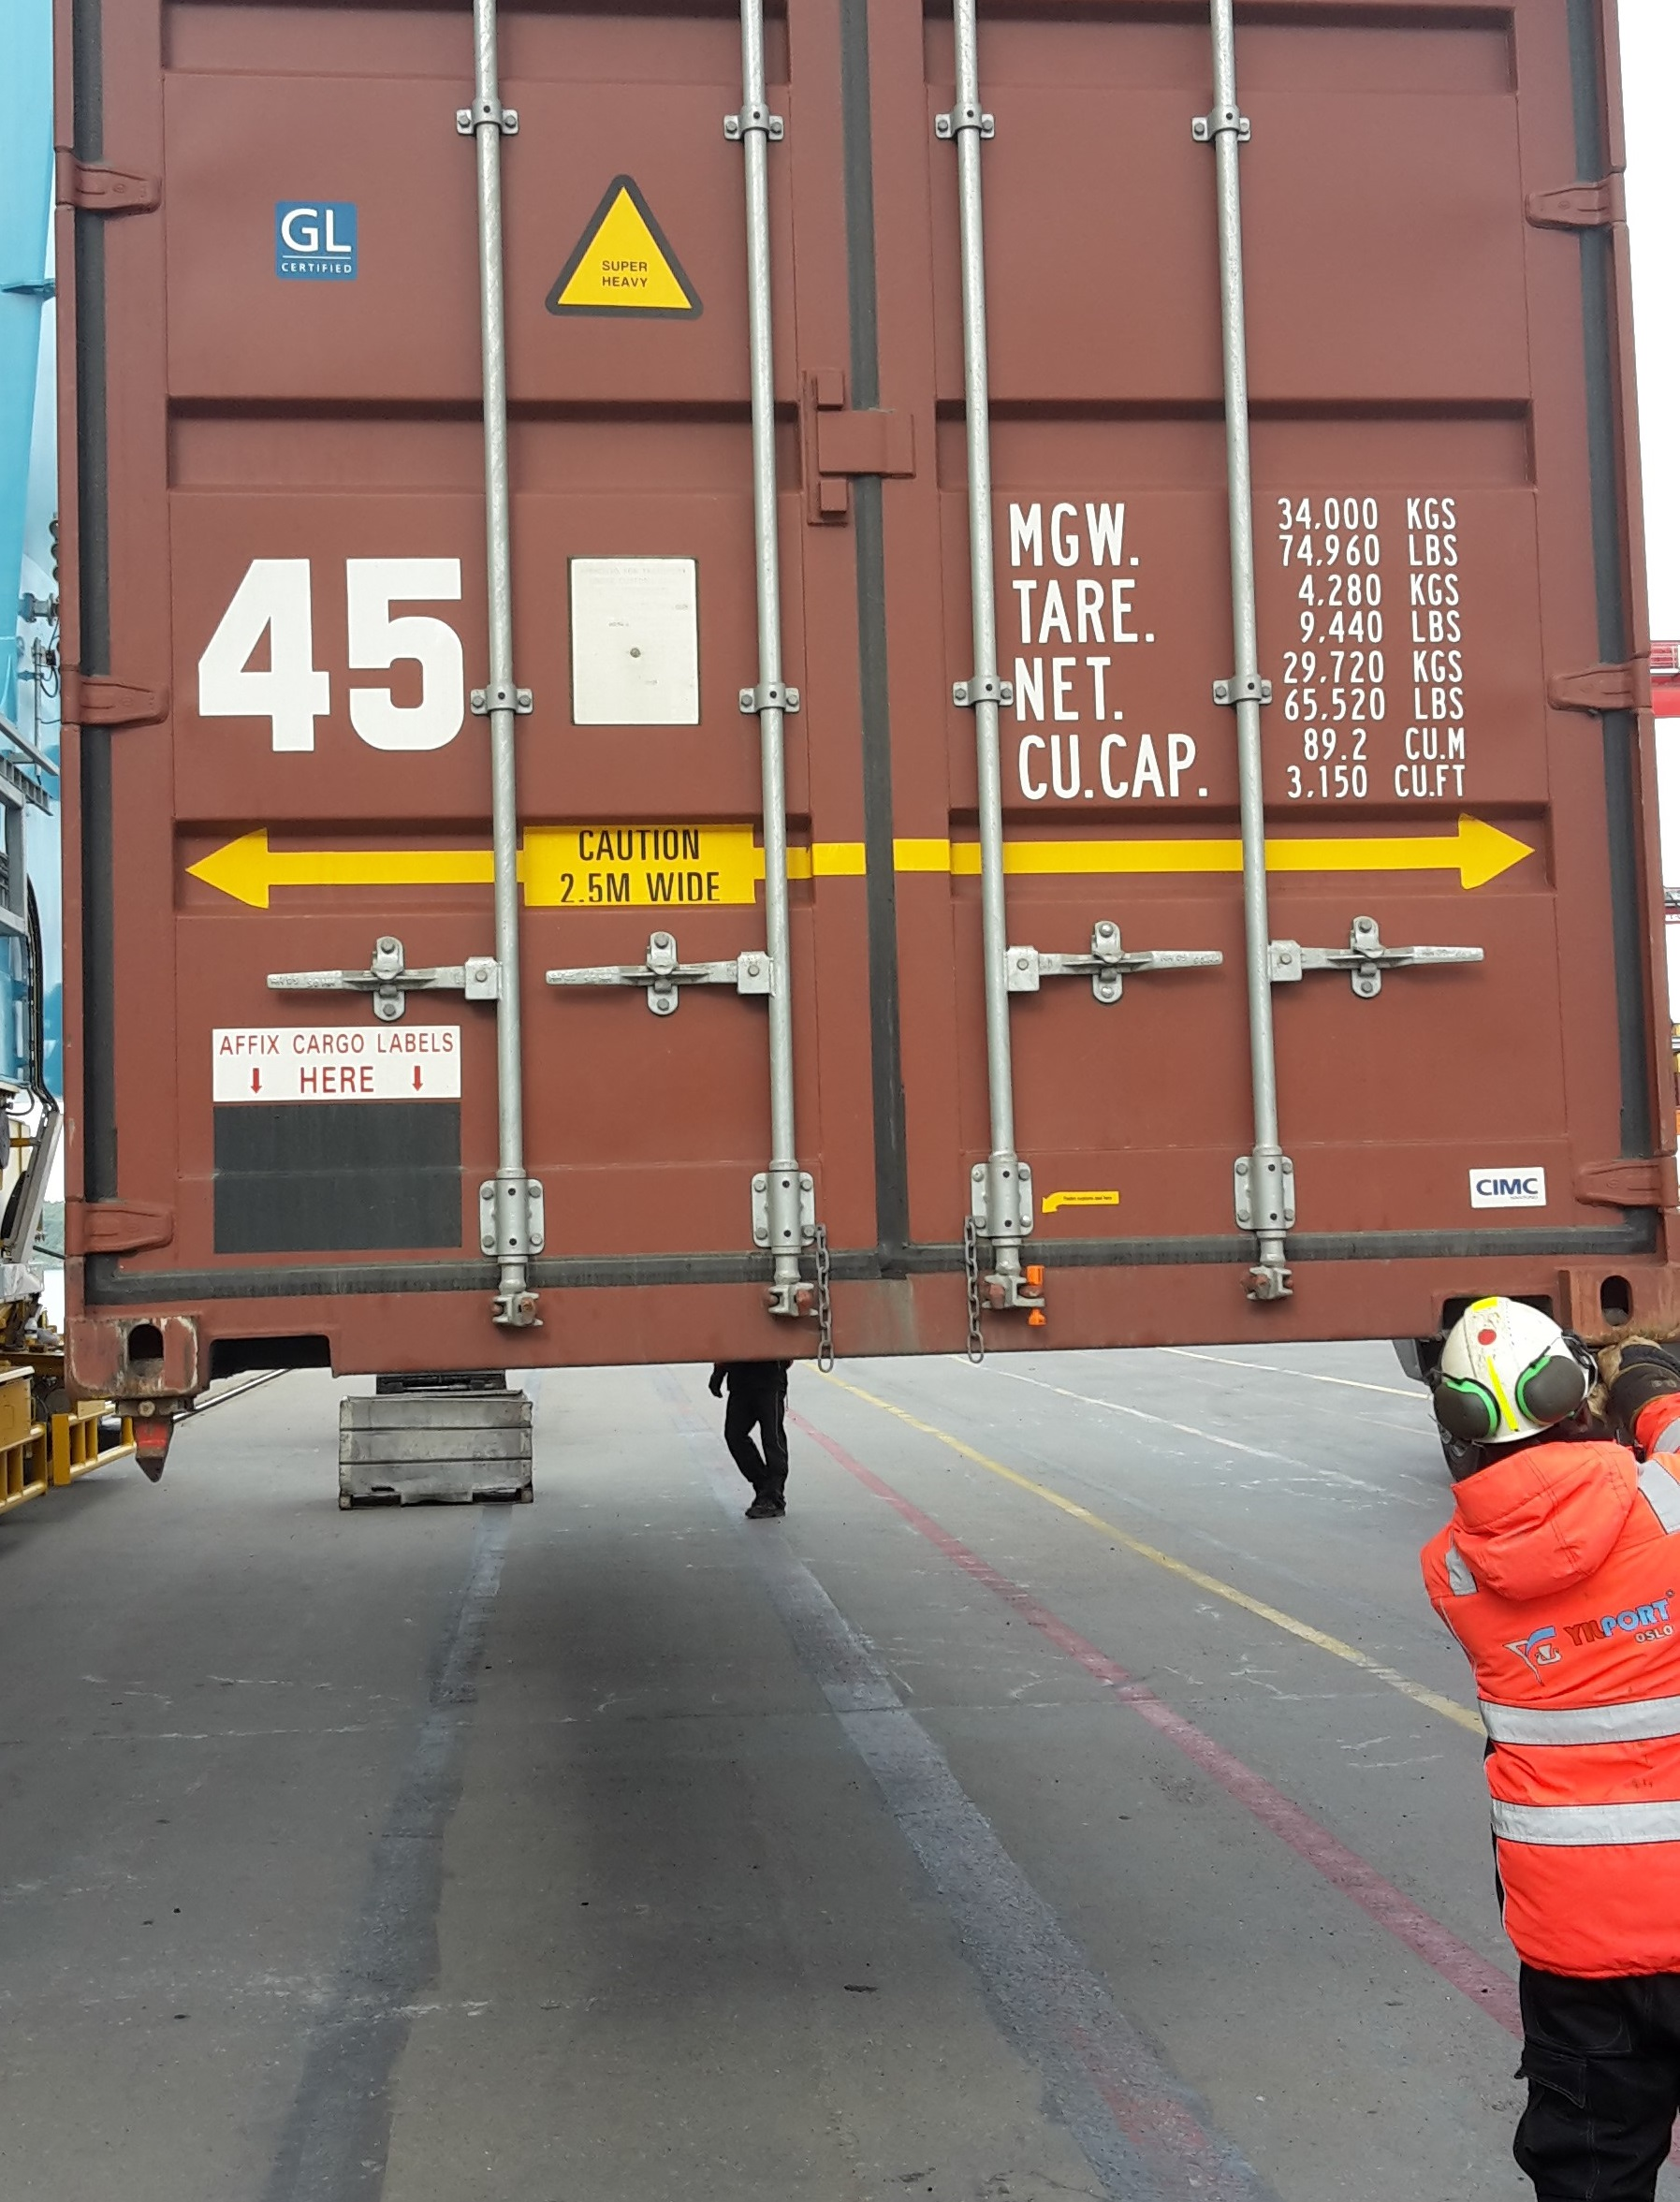container_door: (83, 11, 1632, 1404)
